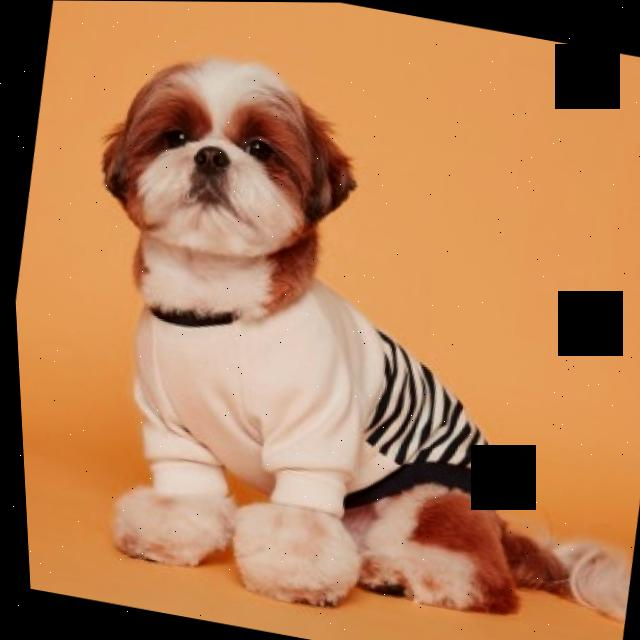cloth: (129, 280, 490, 514)
